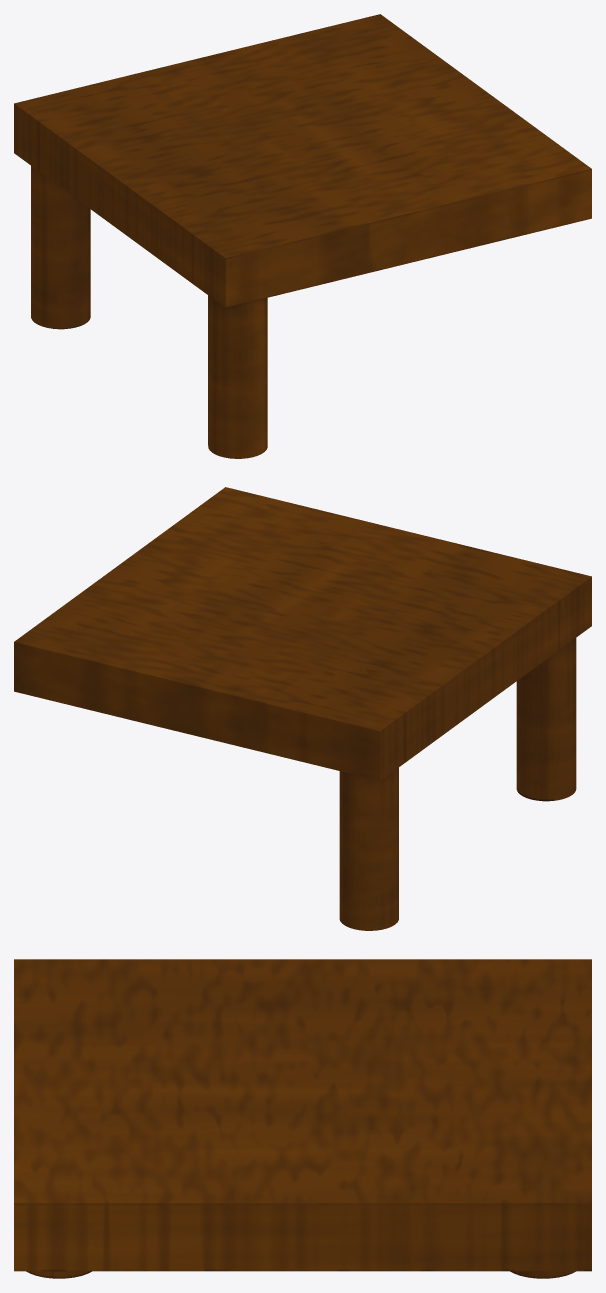
File: dock.glb
3 renders of one model, top to bottom at view 1: azimuth 30°, elevation 25°; view 2: azimuth 150°, elevation 25°; view 3: azimuth 270°, elevation 25°, orthographic. The views are drawn at different scales.
Parts seen in each view (by area): view 1: Cylinder; view 2: Cylinder; view 3: Cylinder.
Boxes of the visible parts, x1,y1,x2,y2 form: Cylinder: (14,14,591,458); Cylinder: (14,487,591,930); Cylinder: (14,959,591,1278).
Size of the model in its own units: 2 by 1.08 by 2.
1 material, 1 textured.
